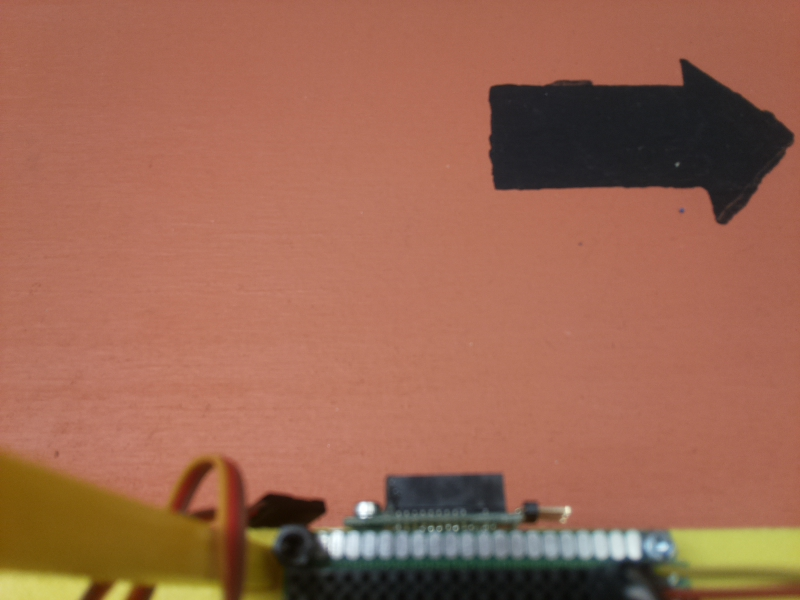start: (490, 58, 791, 230)
